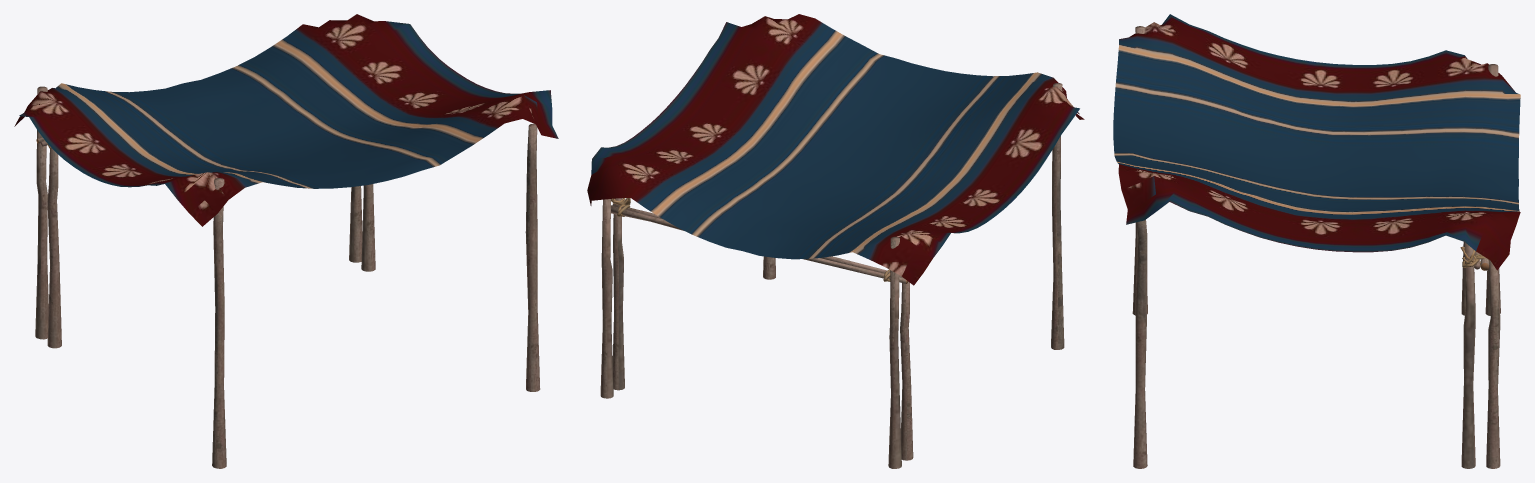
The model's file is SM_market_tent_03.glb.
3 renders of one model, left to right at view 1: azimuth 30°, elevation 25°; view 2: azimuth 150°, elevation 25°; view 3: azimuth 270°, elevation 25°, orthographic. The views are drawn at different scales.
Visible parts, largest first — view 1: SM_market_tent_03; view 2: SM_market_tent_03; view 3: SM_market_tent_03.
Part boxes in pixels (x1,y1,x2,y2): SM_market_tent_03: (14, 14, 558, 468); SM_market_tent_03: (587, 14, 1084, 468); SM_market_tent_03: (1113, 14, 1520, 468).
Size of the model in its own units: 4.76 by 3.42 by 4.37.
2 materials, 2 textured.
